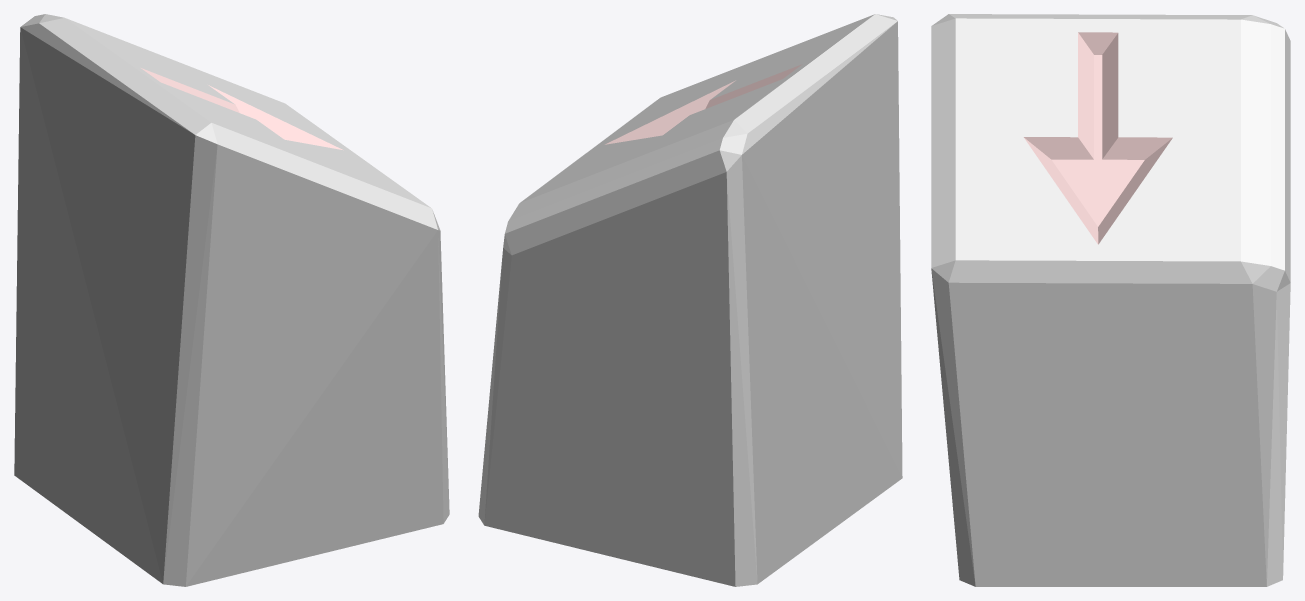
File: button_down.fbx
The picture shows the model from 3 angles, left to right: view 1: azimuth 30°, elevation 25°; view 2: azimuth 150°, elevation 25°; view 3: azimuth 270°, elevation 25°; orthographic projection. The views are drawn at different scales.
Parts seen in each view (by area): view 1: StartPost; view 2: StartPost; view 3: StartPost.
Part boxes in pixels (bbox=[...]): StartPost: bbox=[14, 14, 449, 586]; StartPost: bbox=[478, 14, 902, 586]; StartPost: bbox=[931, 14, 1290, 586].
Size of the model in its own units: 7874 by 12081 by 8747.
